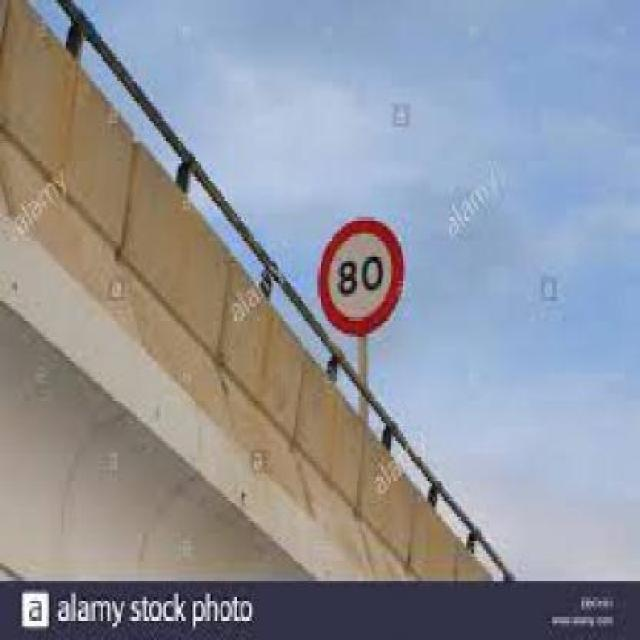forb_speed_over_80: (322, 216, 400, 330)
